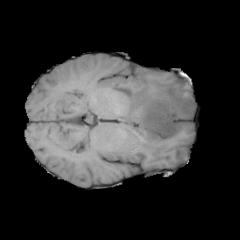glioma: (111, 69, 191, 152)
